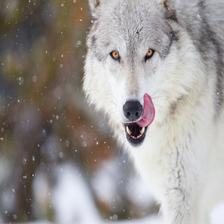WOLF: (87, 0, 224, 152)
